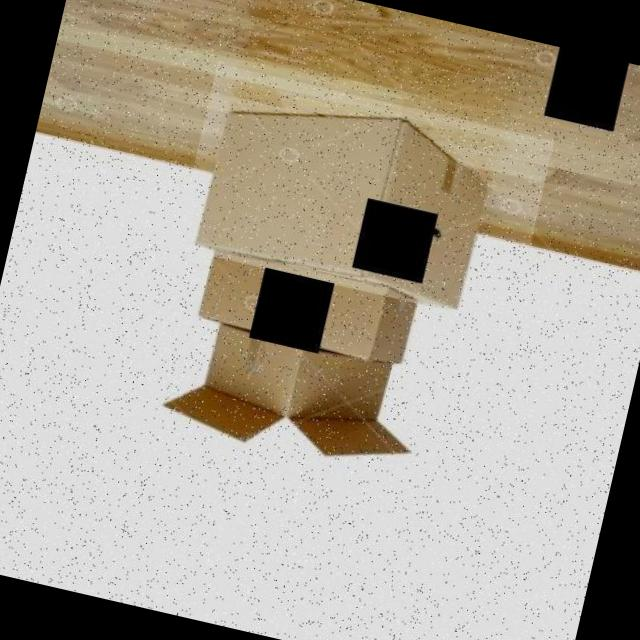box: (174, 62, 554, 325), (140, 302, 441, 491), (176, 232, 482, 382)
